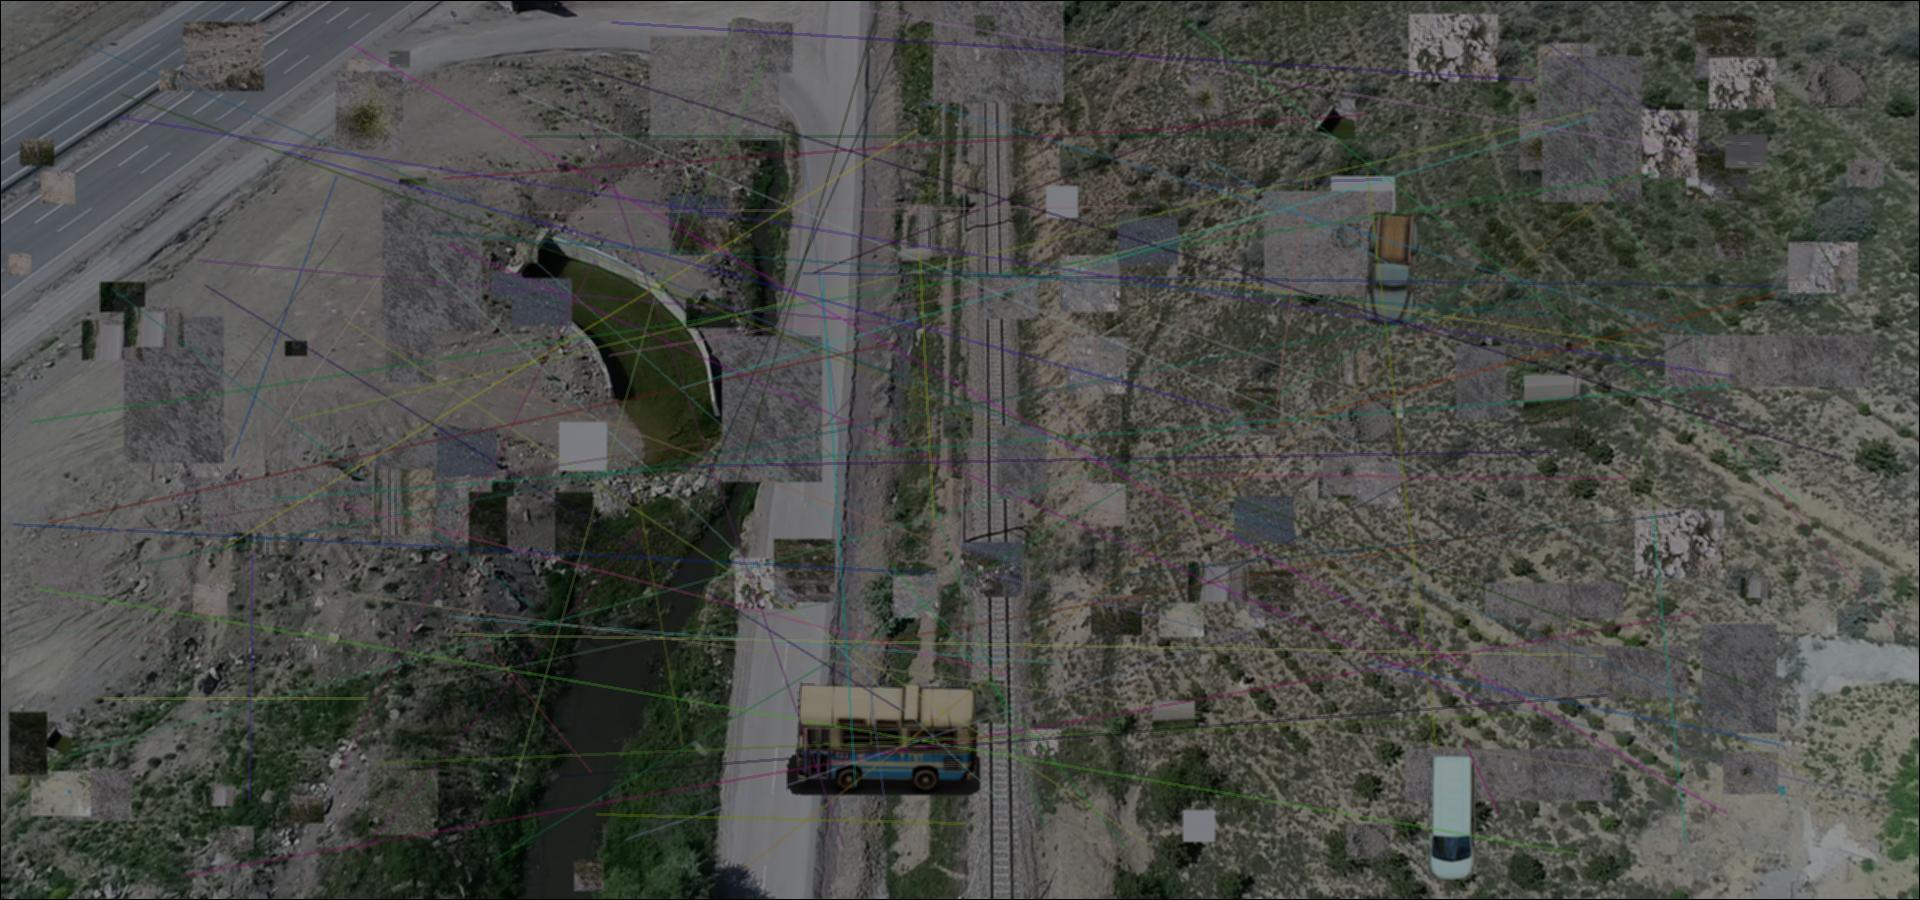arac: (785, 680, 980, 795), (1425, 752, 1484, 883), (1364, 212, 1419, 327)
